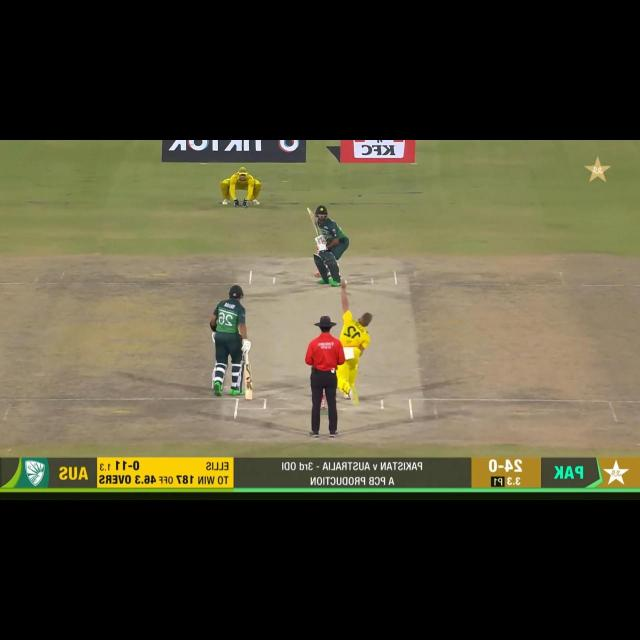bat: (305, 206, 320, 238), (243, 364, 254, 402)
toe: (243, 392, 255, 403), (304, 206, 314, 214)
